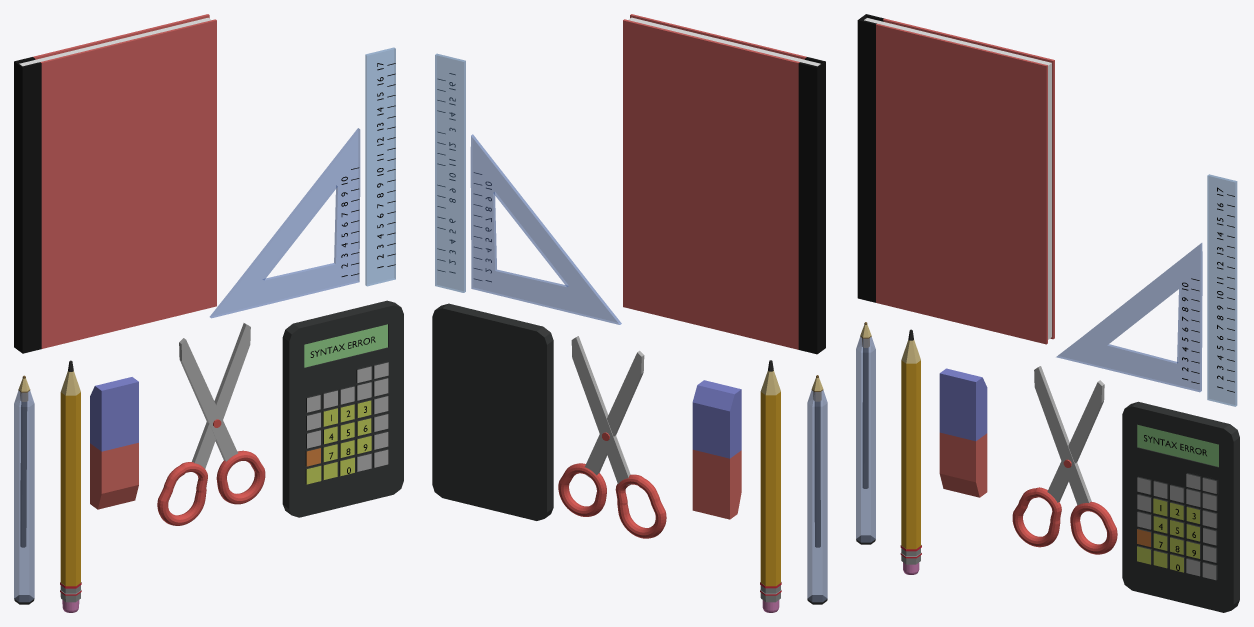
Rendered from Utiles.fbx.
3 renders of one model, left to right at view 1: azimuth 30°, elevation 25°; view 2: azimuth 150°, elevation 25°; view 3: azimuth 330°, elevation 25°, orthographic. The views are drawn at different scales.
Parts seen in each view (by area): view 1: Cubo.004, Cubo.001, Cubo.003, Cubo.002, Torus.001, Cubo, Cilindro, Cilindro.001; view 2: Cubo.004, Cubo.001, Cubo.003, Cubo.002, Torus.001, Cubo, Cilindro, Cilindro.001; view 3: Cubo.004, Cubo.001, Cubo.003, Cubo.002, Torus.001, Cubo, Cilindro, Cilindro.001.
Part boxes in pixels (left/top/right/bottom): Cubo.004: left=14, top=14, right=216, bottom=353; Cubo.001: left=282, top=300, right=403, bottom=517; Cubo.003: left=210, top=128, right=360, bottom=318; Cubo.002: left=365, top=47, right=395, bottom=286; Torus.001: left=157, top=323, right=265, bottom=525; Cubo: left=90, top=377, right=138, bottom=509; Cilindro: left=60, top=360, right=81, bottom=612; Cilindro.001: left=14, top=375, right=34, bottom=604; Cubo.004: left=623, top=14, right=825, bottom=354; Cubo.001: left=432, top=303, right=553, bottom=520; Cubo.003: left=470, top=134, right=621, bottom=324; Cubo.002: left=435, top=53, right=465, bottom=292; Torus.001: left=558, top=336, right=666, bottom=538; Cubo: left=692, top=380, right=741, bottom=519; Cilindro: left=760, top=360, right=781, bottom=612; Cilindro.001: left=807, top=375, right=827, bottom=604; Cubo.004: left=857, top=14, right=1054, bottom=344; Cubo.001: left=1122, top=401, right=1239, bottom=612; Cubo.003: left=1056, top=243, right=1202, bottom=392; Cubo.002: left=1207, top=174, right=1237, bottom=406; Torus.001: left=1012, top=366, right=1117, bottom=554; Cubo: left=939, top=368, right=987, bottom=497; Cilindro: left=900, top=329, right=921, bottom=574; Cilindro.001: left=856, top=322, right=875, bottom=544.
Size of the model in its own units: 348 by 479 by 26.43.
